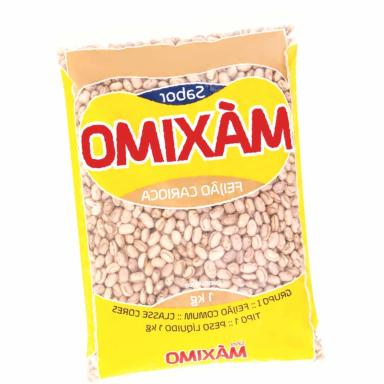beans package: (58, 26, 320, 380)
